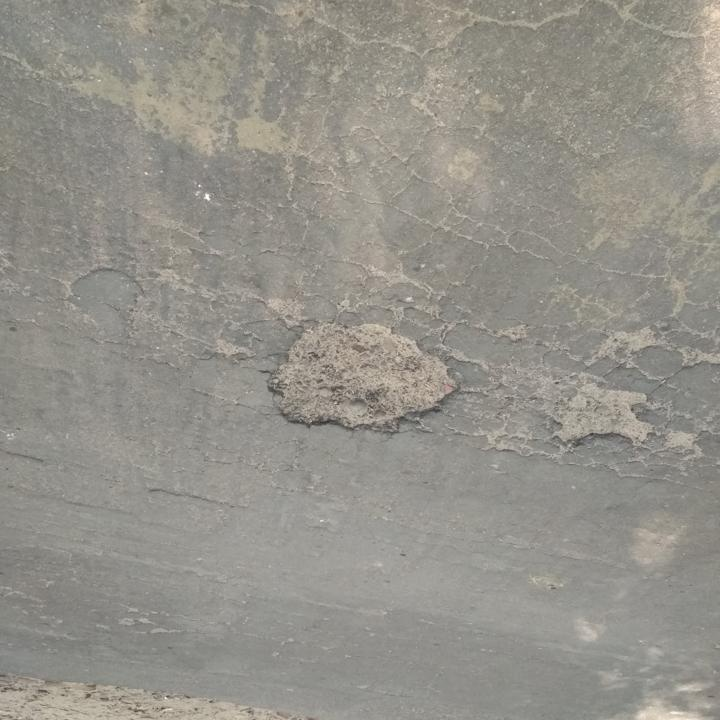pothole: (266, 318, 464, 437), (547, 382, 658, 453)
